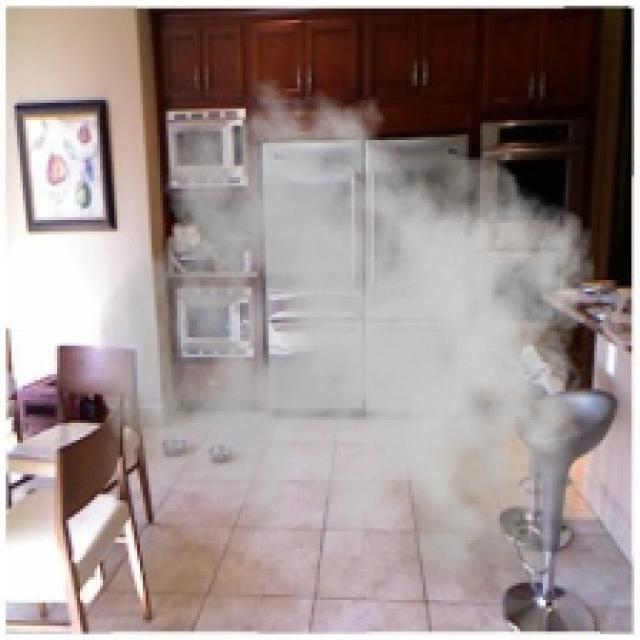Smoke: (97, 77, 612, 609)
